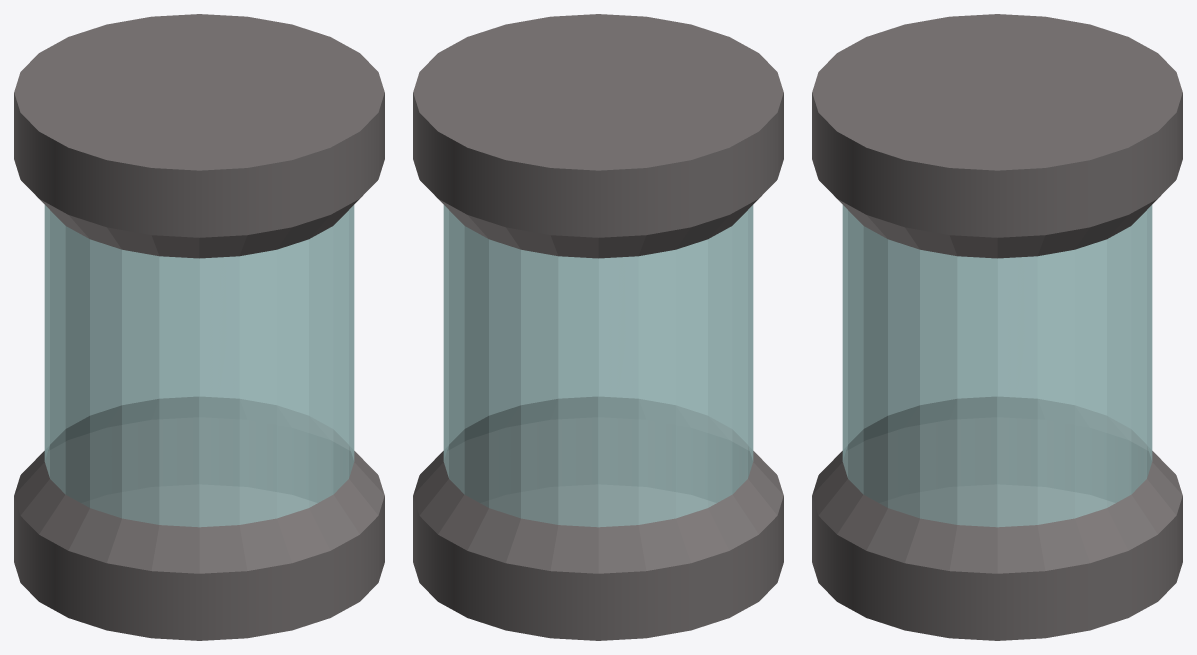
Rendered from Implosion.fbx.
The picture shows the model from 3 angles, left to right: view 1: azimuth 30°, elevation 25°; view 2: azimuth 150°, elevation 25°; view 3: azimuth 270°, elevation 25°; orthographic projection.
Visible parts, largest first — view 1: Model; view 2: Model; view 3: Model.
Boxes of the visible parts, x1,y1,x2,y2 form: Model: (14, 14, 384, 640); Model: (413, 14, 783, 640); Model: (812, 14, 1182, 640).
Bounding box in the file's own units: 1000 × 1400 × 1000.
